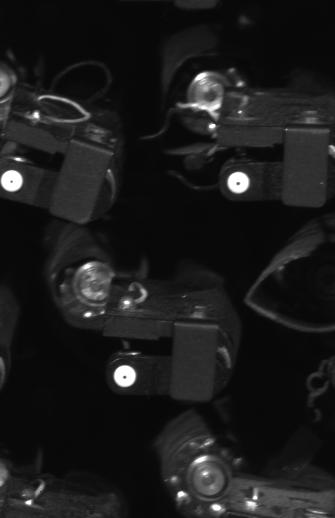fiber: (108, 357, 141, 395), (218, 168, 256, 198), (1, 162, 30, 197)
